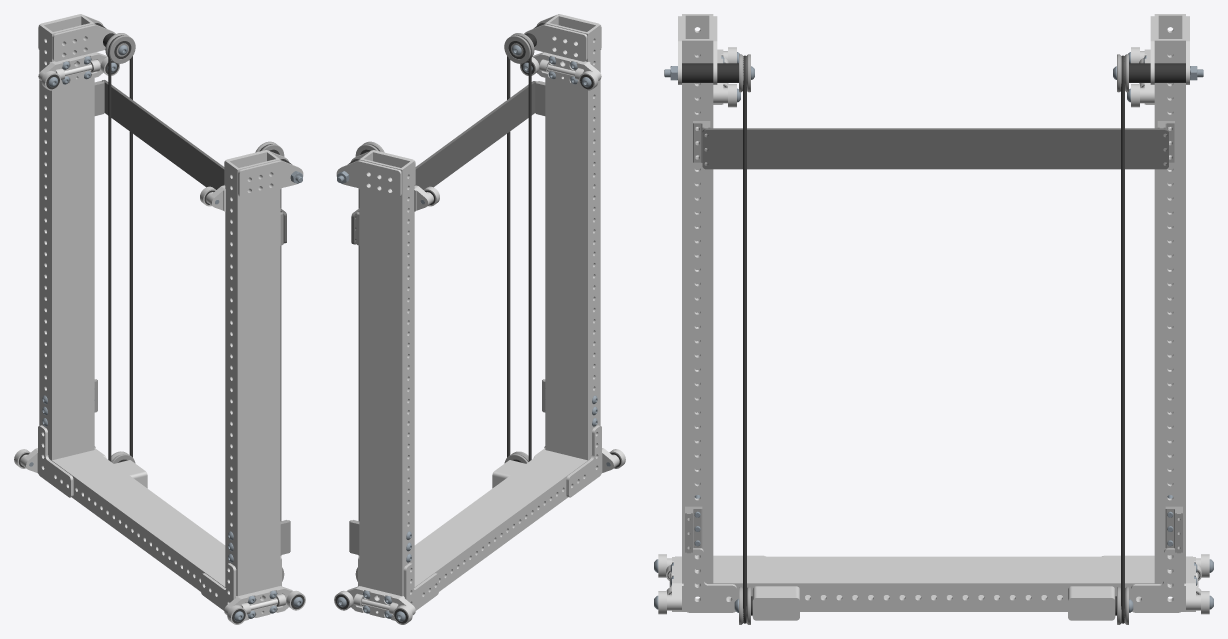
3 views of the same model, side by side, from view 1: azimuth 30°, elevation 25°; view 2: azimuth 150°, elevation 25°; view 3: azimuth 270°, elevation 25° (orthographic). The views are drawn at different scales.
Parts seen in each view (by area): view 1: Tube 2"x1"x20" (×2), Tube 2"x1"x14", BR, Part 1 (×2), PulleyMount (×2), Part 2 (×2), V8 Bearing Block (×2), W2RX, Part 3; view 2: Tube 2"x1"x20" (×2), Tube 2"x1"x14", BR, Part 1 (×2), PulleyMount (×2), Part 2 (×2), V8 Bearing Block (×2), W2RX, Part 3; view 3: Tube 2"x1"x20" (×2), Tube 2"x1"x14", BR, Part 1 (×2), Part 4 (×2), Part 3 (×2).
Part boxes in pixels (bbox=[...]): Tube 2"x1"x20" (×2): bbox=[39, 14, 280, 596]; Tube 2"x1"x14": bbox=[52, 450, 225, 591]; BR: bbox=[102, 80, 286, 243]; Part 1 (×2): bbox=[108, 35, 281, 555]; PulleyMount (×2): bbox=[52, 24, 303, 197]; Part 2 (×2): bbox=[38, 425, 236, 610]; V8 Bearing Block (×2): bbox=[38, 52, 293, 620]; W2RX: bbox=[105, 33, 135, 63]; Part 3: bbox=[114, 460, 147, 488]; Tube 2"x1"x20" (×2): bbox=[359, 14, 600, 596]; Tube 2"x1"x14": bbox=[414, 450, 587, 591]; BR: bbox=[351, 81, 535, 244]; Part 1 (×2): bbox=[358, 35, 531, 555]; PulleyMount (×2): bbox=[336, 24, 587, 197]; Part 2 (×2): bbox=[403, 425, 601, 610]; V8 Bearing Block (×2): bbox=[346, 52, 601, 620]; W2RX: bbox=[504, 33, 534, 63]; Part 3: bbox=[492, 460, 525, 488]; Tube 2"x1"x20" (×2): bbox=[682, 14, 1185, 611]; Tube 2"x1"x14": bbox=[713, 556, 1154, 611]; BR: bbox=[702, 128, 1168, 169]; Part 1 (×2): bbox=[743, 55, 1124, 623]; Part 4 (×2): bbox=[685, 548, 1182, 612]; Part 3 (×2): bbox=[752, 586, 1115, 620].
Bounding box in the file's own units: 0.1011 × 0.5107 × 0.4512.
